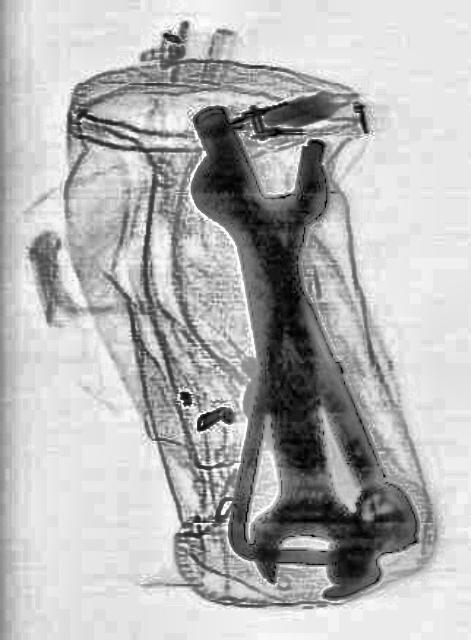Wrench: (186, 127, 378, 595)
